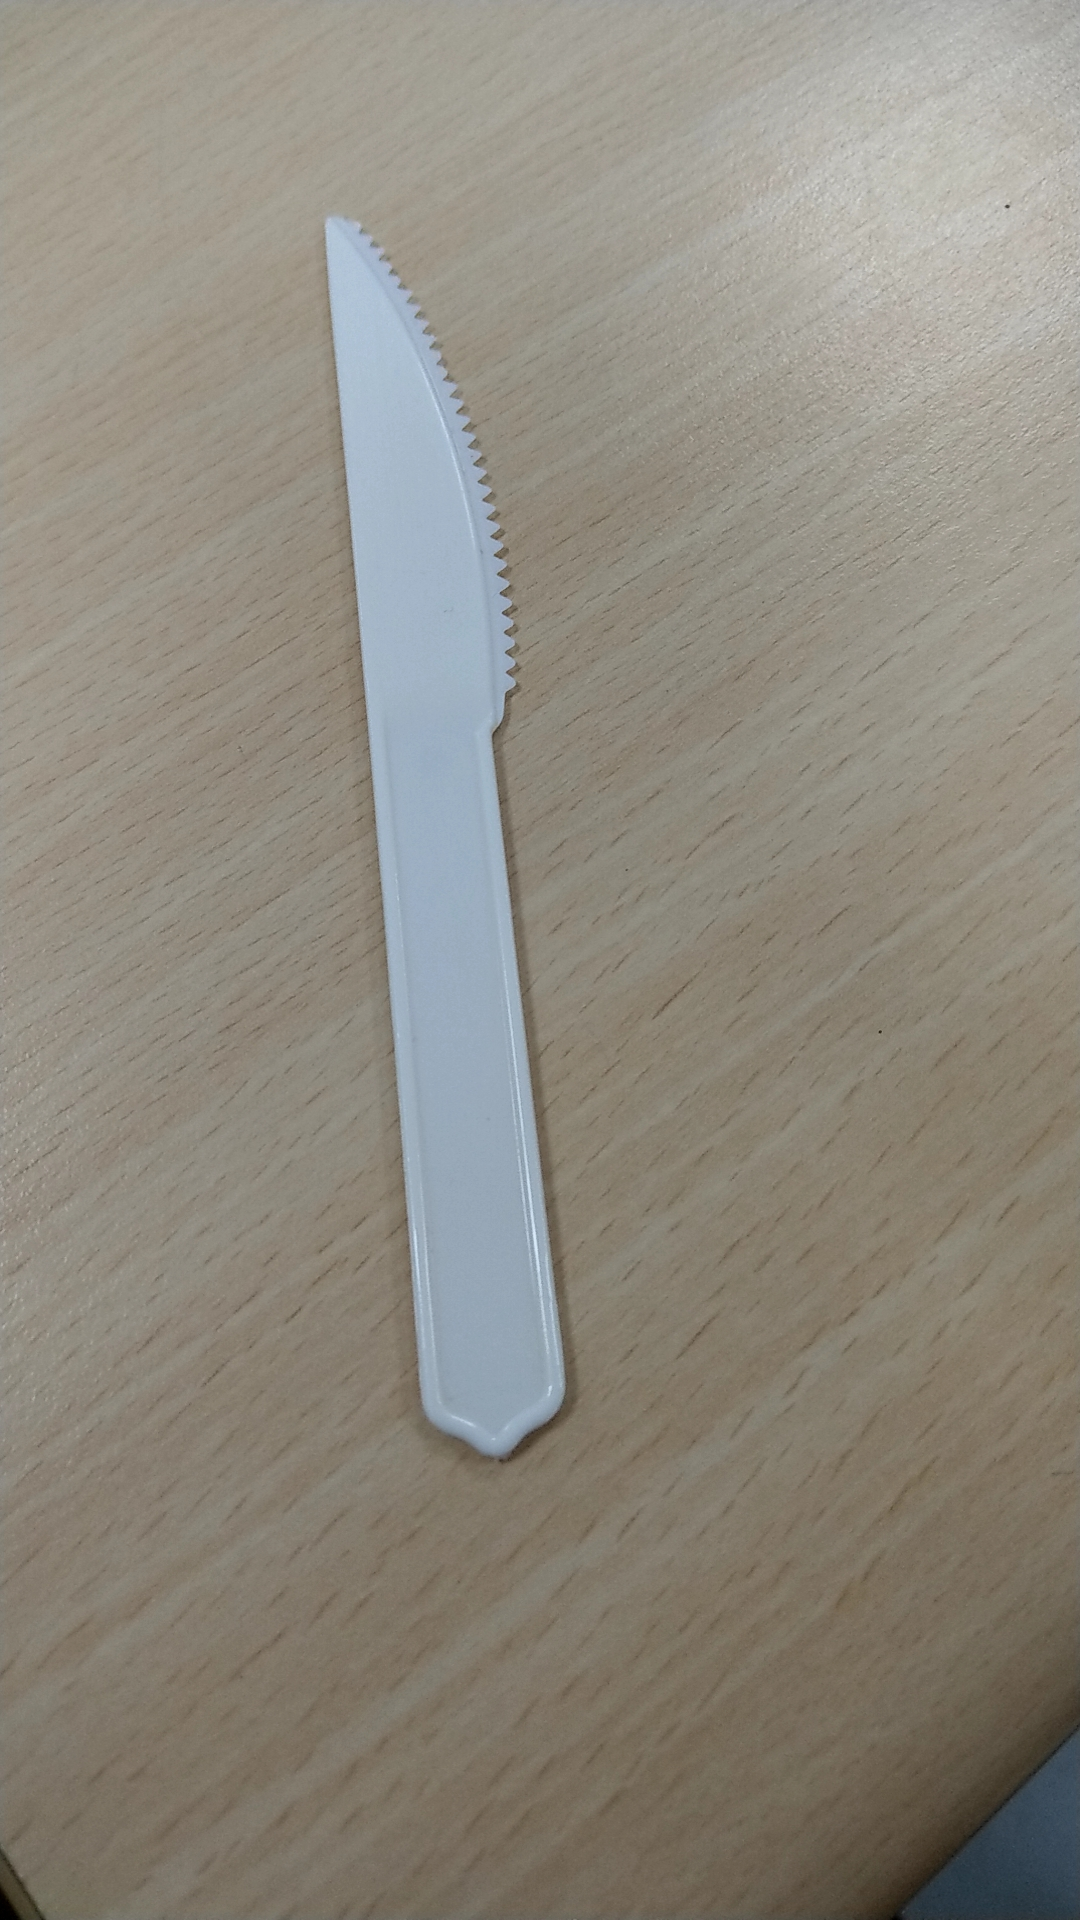knife: (284, 200, 620, 1472)
